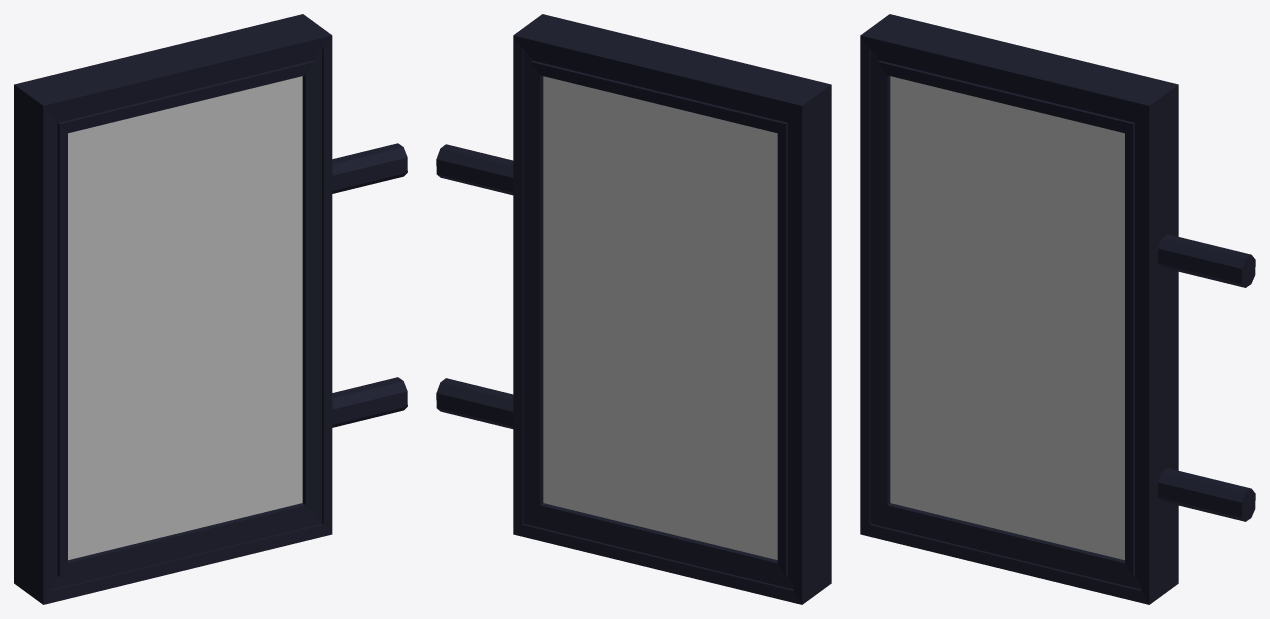
The model's file is Sign_SingleStreet05.fbx.
3 renders of one model, left to right at view 1: azimuth 30°, elevation 25°; view 2: azimuth 150°, elevation 25°; view 3: azimuth 330°, elevation 25°, orthographic.
Visible parts, largest first — view 1: Cube.521; view 2: Cube.521; view 3: Cube.521.
Boxes of the visible parts, x1,y1,x2,y2 form: Cube.521: (14,14,407,604); Cube.521: (436,14,831,604); Cube.521: (860,14,1255,604).
Size of the model in its own units: 97.29 by 124 by 13.24.
